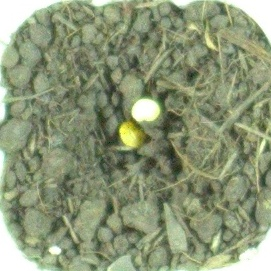pepper seed: (42, 45, 193, 195), (48, 35, 209, 159)
